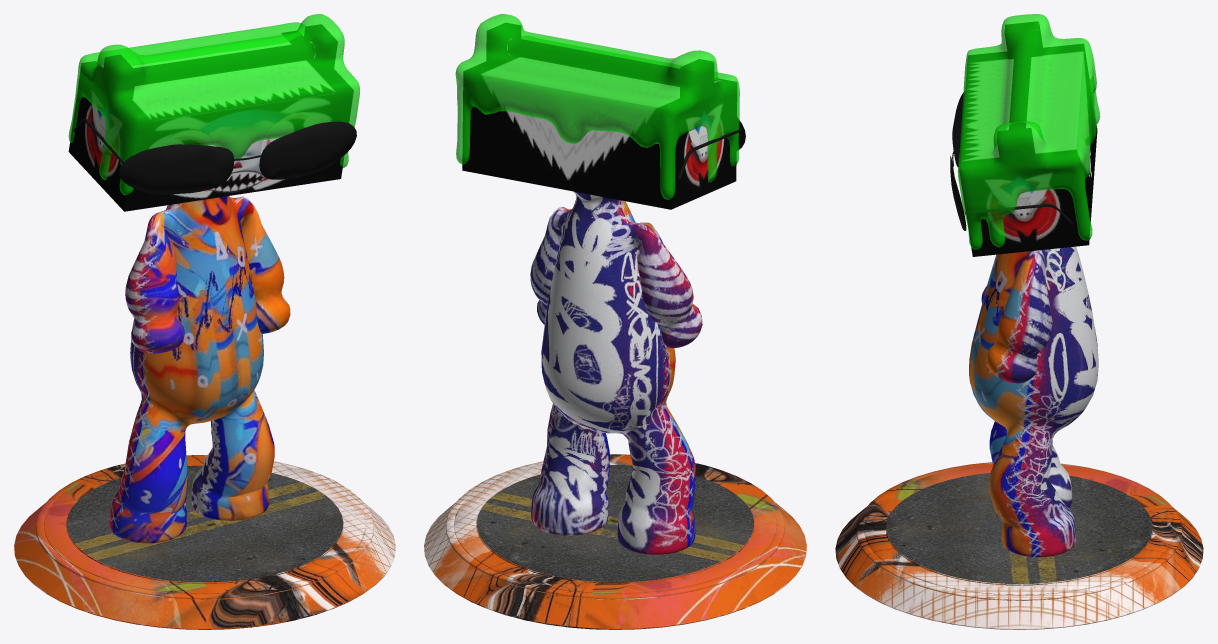
3 renders of one model, left to right at view 1: azimuth 30°, elevation 25°; view 2: azimuth 150°, elevation 25°; view 3: azimuth 270°, elevation 25°, orthographic. The views are drawn at different scales.
Bounding box in the file's own units: 1.45 × 2.16 × 1.45.
6 materials, 4 textured.
